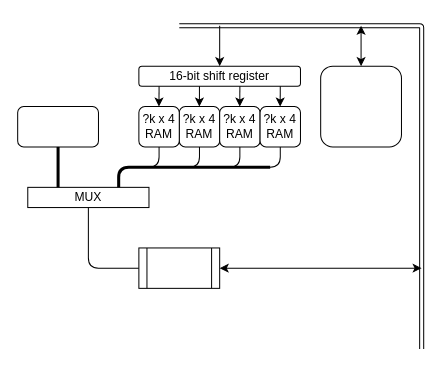
Some shapes in this 448 by 367 pixel diagram are drawn without their labels. The shapes that lost their labels are listed below. From the top down, each one's box as (x1, y1, x2, y2) in pixels, then its label:
(320, 65, 401, 147): 4k x 1 Working RAM
(17, 106, 98, 147): ?? x 16 ROM
(138, 247, 220, 288): UE14500
